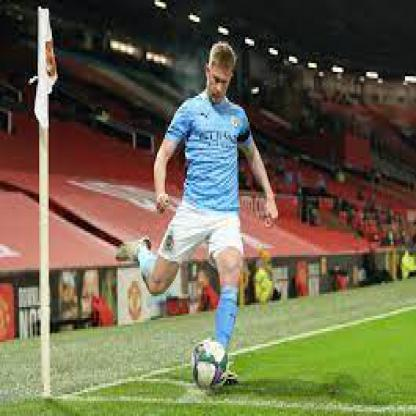corner kick: (21, 10, 260, 402)
